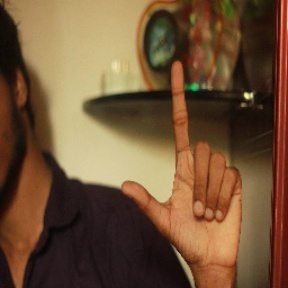L: (121, 58, 244, 256)
